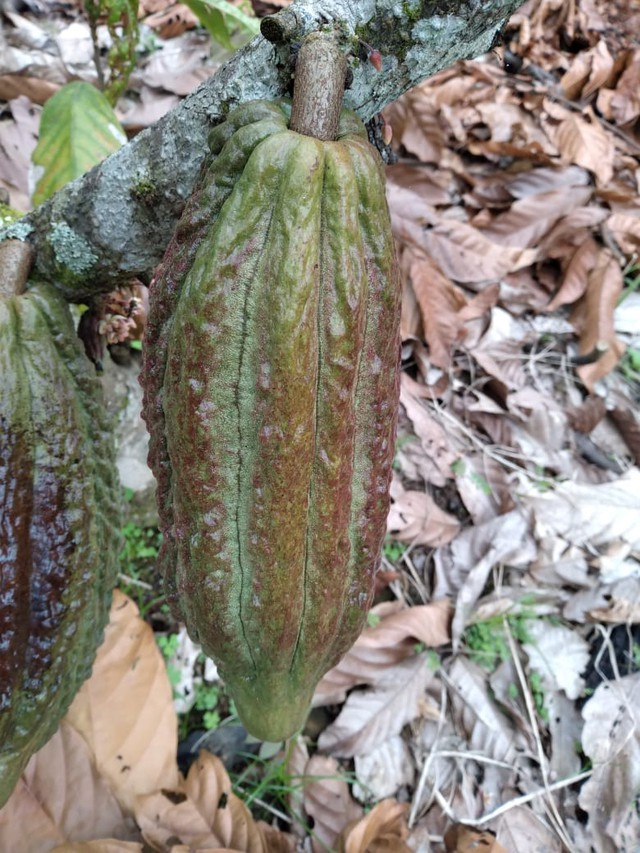Health: (134, 87, 414, 759)
